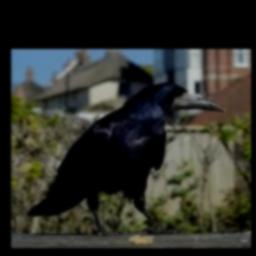Crow: (28, 80, 225, 236)
